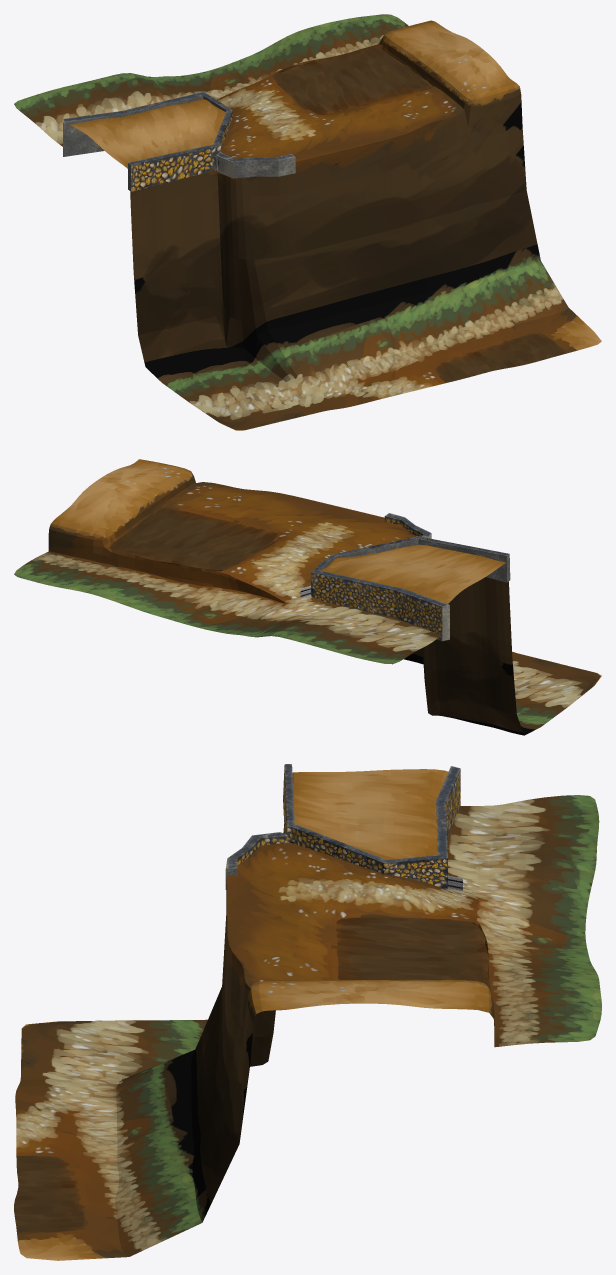
The model's file is Malla Bancal Ultimos.fbx.
3 renders of one model, top to bottom at view 1: azimuth 30°, elevation 25°; view 2: azimuth 150°, elevation 25°; view 3: azimuth 270°, elevation 25°, orthographic. The views are drawn at different scales.
Parts seen in each view (by area): view 1: Terra, MurOest; view 2: Terra, MurOest; view 3: Terra, MurOest.
Boxes of the visible parts, box(x1,y1,x2,y2) form: Terra: box(14, 14, 601, 430); MurOest: box(63, 92, 295, 191); Terra: box(14, 459, 601, 735); MurOest: box(311, 513, 510, 641); Terra: box(14, 769, 601, 1260); MurOest: box(225, 764, 460, 889).
Size of the model in its own units: 50748 by 24990 by 51346.
5 materials, 4 textured.
